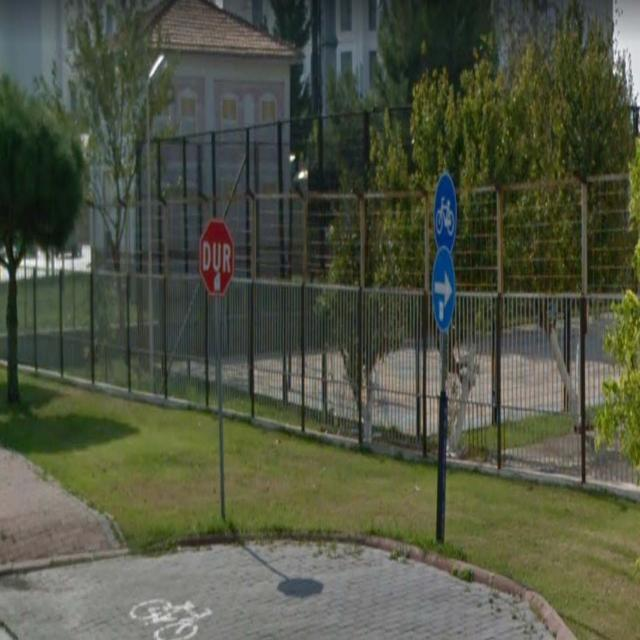dur: (201, 220, 233, 297)
sag: (432, 248, 456, 329)
